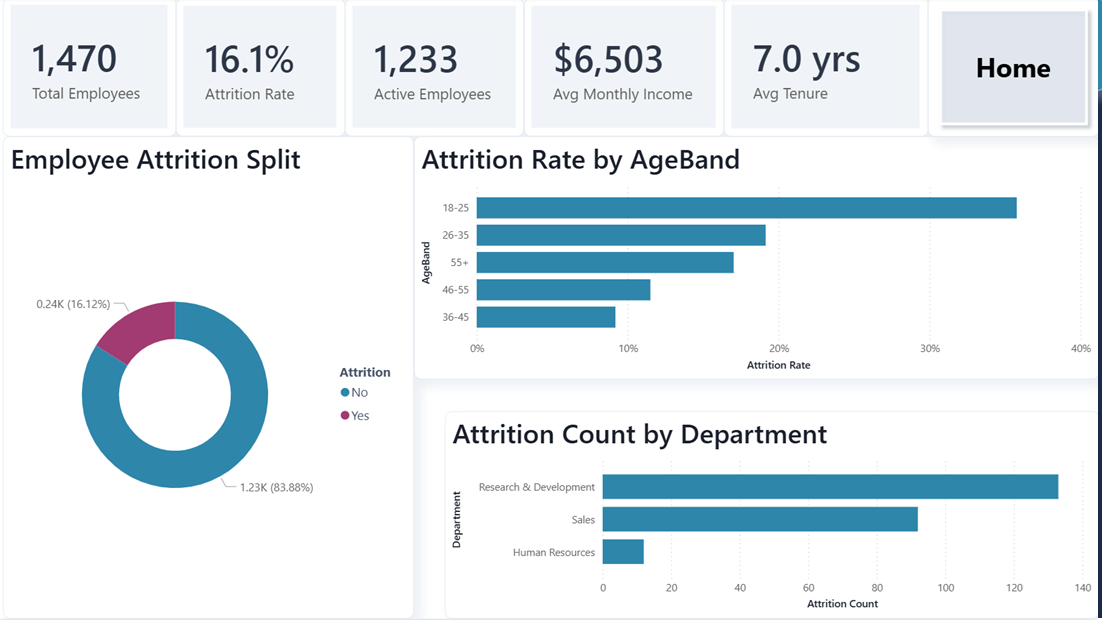

The page's visual inventory and layout, read from the dashboard file:
{"tool":"powerbi","page":{"name":"Overview","canvas":[1280,720],"ordinal":1},"visuals":[{"type":"cardVisual","fields":{"Data":["Measures (2).Total Employees"]},"box":[10.4,0,200.5,161.1],"z":0},{"type":"cardVisual","fields":{"Data":["Measures (2).Attrition Rate"]},"box":[210.9,1.2,195.8,159.9],"z":1000},{"type":"cardVisual","fields":{"Data":["Measures (2).Active Employees"]},"box":[406.7,1.2,207.4,159.9],"z":2000},{"type":"cardVisual","fields":{"Data":["Measures (2).Avg Monthly Income"]},"box":[614.1,1.2,231.7,159.9],"z":3000},{"type":"cardVisual","fields":{"Data":["Measures (2).Avg Tenure"]},"box":[845.9,0,236.4,161.1],"z":4000},{"type":"donutChart","title":"Employee Attrition Split","fields":{"Category":["HR_Data.Attrition"],"Y":["CountNonNull(HR_Data.AttritionFlag)"]},"box":[10.4,161.1,476.2,558.5],"z":5000},{"type":"clusteredBarChart","fields":{"Category":["HR_Data.Department"],"Y":["Measures (2).Attrition Count"]},"box":[522.6,479.7,757.8,239.9],"z":6000},{"type":"clusteredBarChart","fields":{"Category":["HR_Data.AgeBand"],"Y":["Measures (2).Attrition Rate"]},"box":[486.7,161.1,793.7,281.6],"z":7000},{"type":"actionButton","box":[1082.3,0,198.1,161.1],"z":7001}]}

Visuals, with their boxes in screenshot pixels (x1, y1, x2, y2), scaled from the page's 1280x720 canvas onto the 1102x620 screenshot:
cardVisual - Measures (2).Total Employees: bbox=(9, 0, 182, 139)
cardVisual - Measures (2).Attrition Rate: bbox=(182, 1, 350, 139)
cardVisual - Measures (2).Active Employees: bbox=(350, 1, 529, 139)
cardVisual - Measures (2).Avg Monthly Income: bbox=(529, 1, 728, 139)
cardVisual - Measures (2).Avg Tenure: bbox=(728, 0, 932, 139)
"Employee Attrition Split" donutChart: bbox=(9, 139, 419, 619)
clusteredBarChart - HR_Data.Department x Measures (2).Attrition Count: bbox=(450, 413, 1101, 619)
clusteredBarChart - HR_Data.AgeBand x Measures (2).Attrition Rate: bbox=(419, 139, 1101, 381)
actionButton: bbox=(932, 0, 1101, 139)
